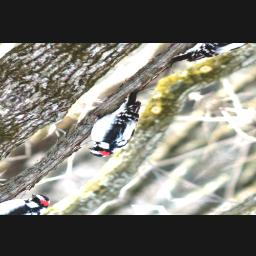Woodpecker: (64, 85, 177, 162)
